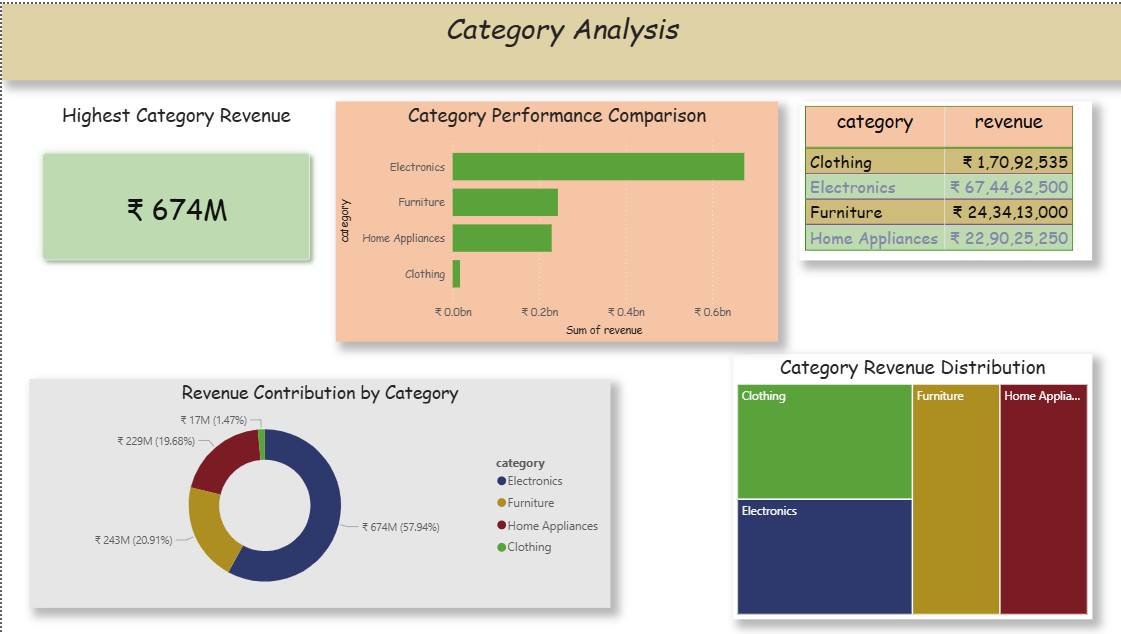

The page's visual inventory and layout, read from the dashboard file:
{"tool":"powerbi","page":{"name":"Category Analysis","canvas":[1280,720],"ordinal":3},"visuals":[{"type":"textbox","box":[0,0,1280,87.1],"z":0},{"type":"donutChart","title":"Revenue Contribution by Category","fields":{"Category":["revenue_by_category.category"],"Y":["Sum(revenue_by_category.revenue)"]},"box":[31.4,428.6,664.3,261.4],"z":1000},{"type":"treemap","title":"Category Revenue Distribution","fields":{"Values":["CountNonNull(revenue_by_category.revenue)"],"Group":["revenue_by_category.category"]},"box":[835.7,400,410,302.9],"z":2000},{"type":"tableEx","fields":{"Values":["revenue_by_category.category","revenue_by_category.revenue"]},"box":[911.4,111.4,334.3,181.4],"z":3000},{"type":"cardVisual","title":"Highest Category Revenue","fields":{"Data":["Max(revenue_by_category.revenue)"]},"box":[17.1,111.4,364.3,211.4],"z":4000},{"type":"clusteredBarChart","title":"Category Performance Comparison","fields":{"Category":["revenue_by_category.category"],"Y":["Sum(revenue_by_category.revenue)"]},"box":[381.4,111.4,505.7,274.3],"z":5000}]}

Visuals, with their boxes in screenshot pixels (x1, y1, x2, y2), scaled from the page's 1280x720 canvas onto the 1121x634 screenshot:
textbox: box=[0, 0, 1120, 77]
"Revenue Contribution by Category" donutChart: box=[27, 377, 609, 608]
"Category Revenue Distribution" treemap: box=[732, 352, 1091, 619]
tableEx - revenue_by_category.category x revenue_by_category.revenue: box=[798, 98, 1091, 258]
"Highest Category Revenue" cardVisual: box=[15, 98, 334, 284]
"Category Performance Comparison" clusteredBarChart: box=[334, 98, 777, 340]
